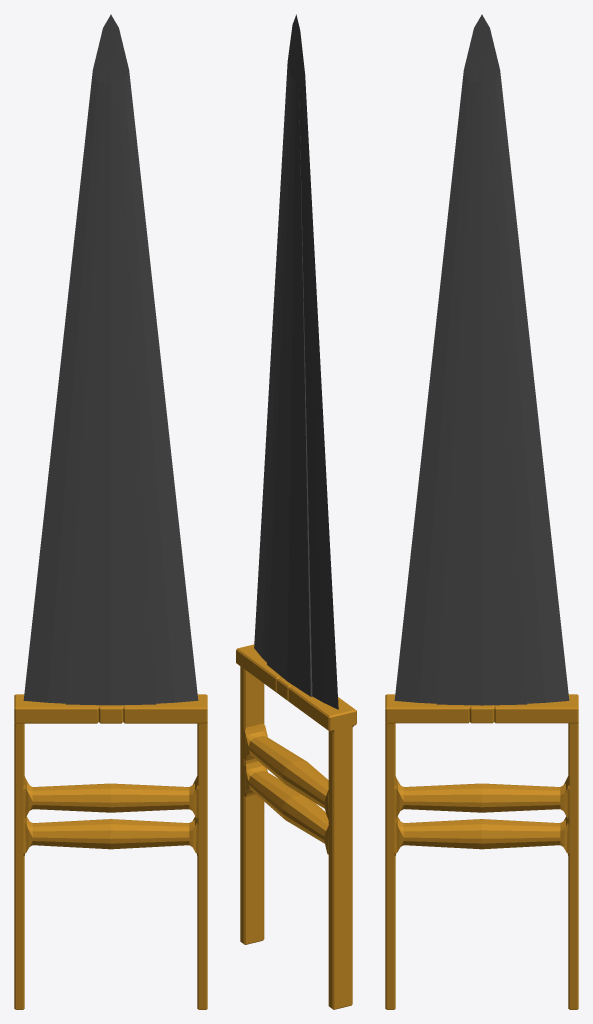
Rendered from low poly katar.obj.
3 views of the same model, side by side, from view 1: azimuth 90°, elevation 25°; view 2: azimuth 210°, elevation 25°; view 3: azimuth 270°, elevation 25° (orthographic). The views are drawn at different scales.
Visible parts, largest first — view 1: blade, handle; view 2: blade, handle; view 3: blade, handle.
Part boxes in pixels (x1,y1,x2,y2): blade: (23, 14, 198, 705); handle: (14, 694, 207, 1009); blade: (254, 14, 338, 709); handle: (236, 644, 356, 1009); blade: (394, 14, 569, 705); handle: (385, 694, 578, 1009).
Size of the model in its own units: 0.0247 by 0.7939 by 0.1405.
